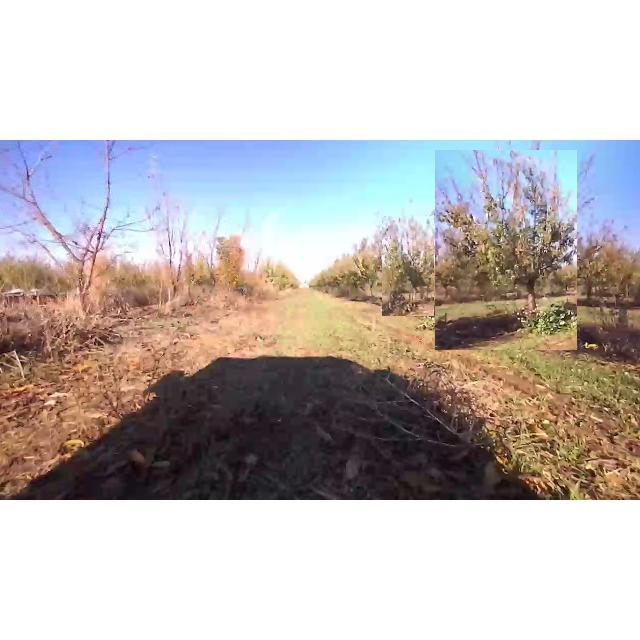direk: (435, 150, 577, 350), (0, 141, 156, 315), (382, 216, 434, 316), (152, 191, 190, 301), (202, 208, 226, 294), (356, 248, 378, 300), (249, 246, 271, 278)
